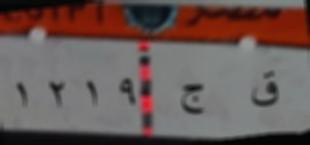1: (8, 70, 39, 116), (80, 71, 103, 115)
2: (45, 75, 69, 117)
9: (116, 70, 142, 114)
jeem: (177, 75, 211, 125)
qaaf: (245, 66, 285, 114)
